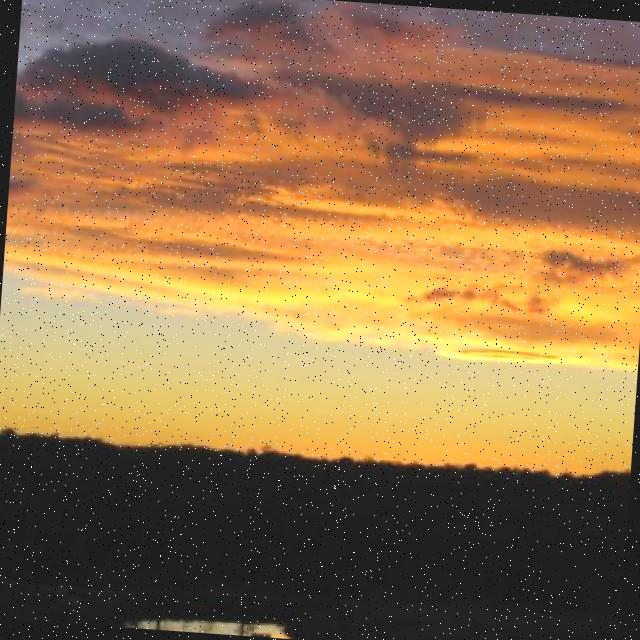As: (1, 1, 640, 390)
